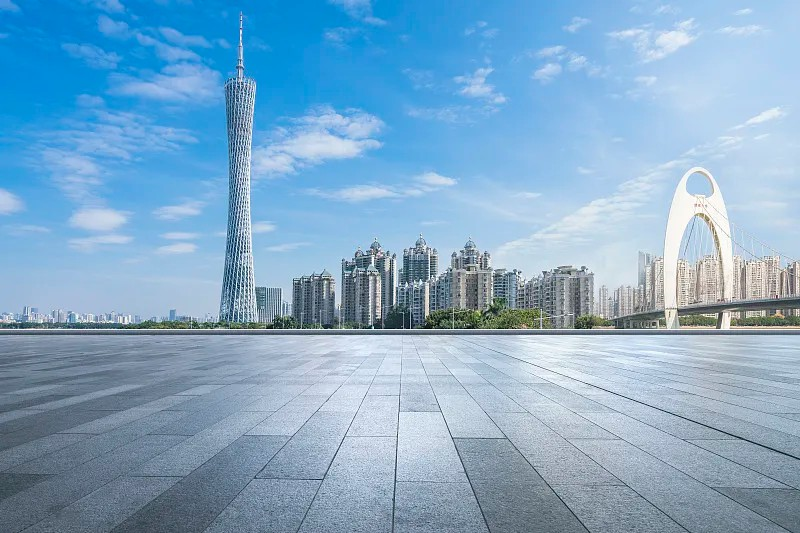Canton: (218, 10, 258, 325)
